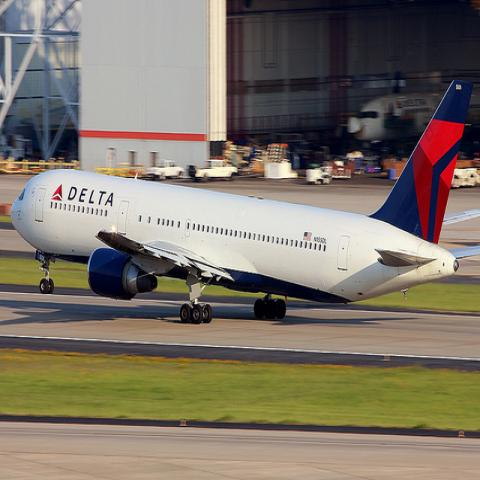truck: (188, 160, 238, 182)
